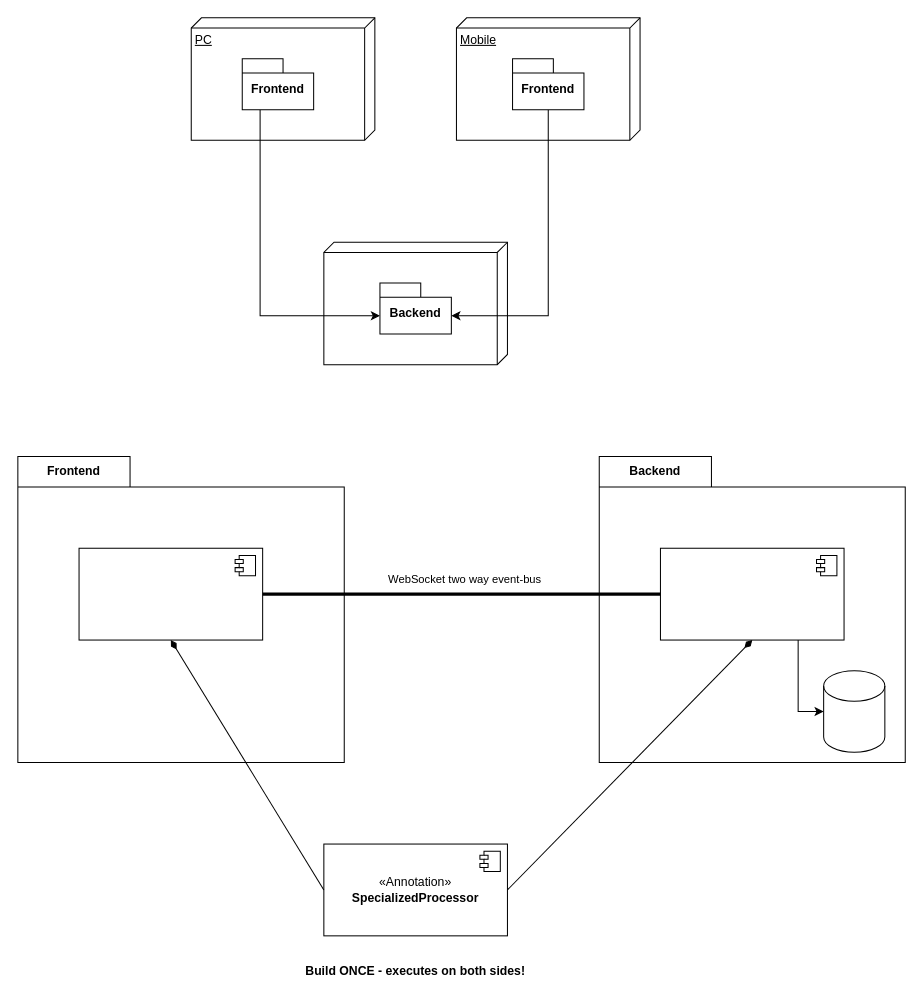
The diagram is 923 pixels wide and 1005 high, and some of its shapes have lost their labels. Here are the shapes that lost their labels. From the top down, the box of each, then its label:
(323, 241, 507, 365): Server
(78, 547, 263, 640): «Annotation» Client
(659, 547, 844, 640): «Annotation» Server
